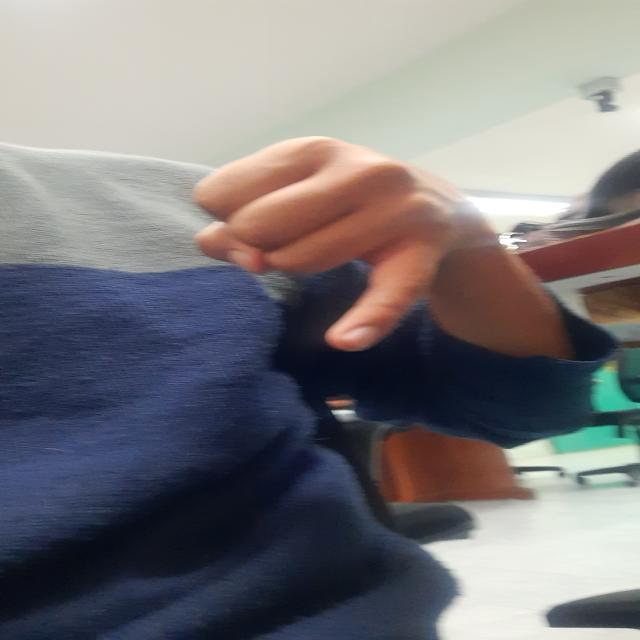J: (181, 127, 502, 351)
